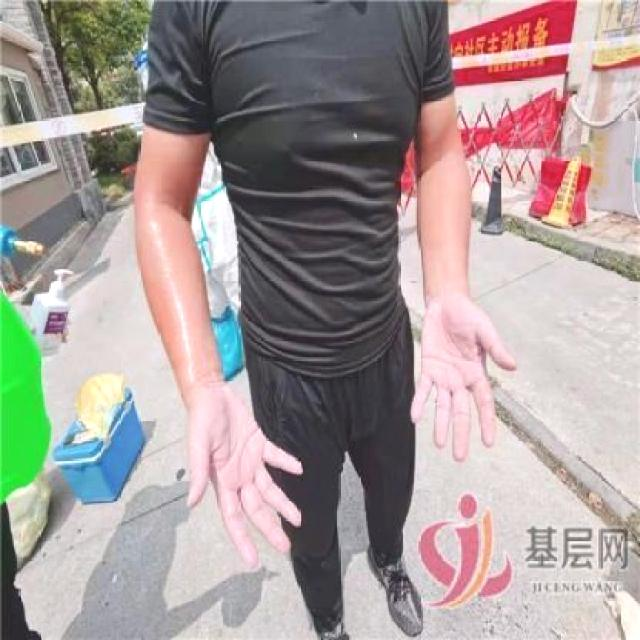hand_noglove: (184, 396, 302, 570), (409, 297, 516, 458)
shoes: (360, 538, 432, 632)
